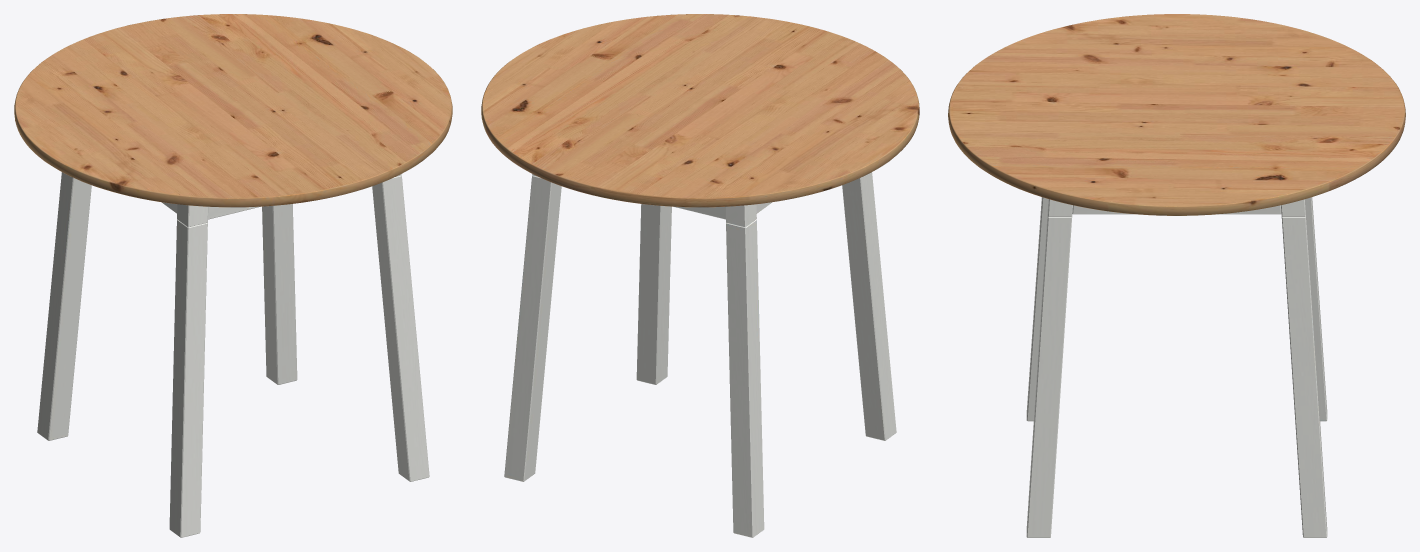
The model's file is pinntorp_sto_30637834.glb.
3 renders of one model, left to right at view 1: azimuth 30°, elevation 25°; view 2: azimuth 150°, elevation 25°; view 3: azimuth 270°, elevation 25°, orthographic. The views are drawn at different scales.
Visible parts, largest first — view 1: pinntorp_sto_30637834; view 2: pinntorp_sto_30637834; view 3: pinntorp_sto_30637834.
Part boxes in pixels (x1,y1,x2,y2): pinntorp_sto_30637834: (14,14,452,537); pinntorp_sto_30637834: (481,14,919,537); pinntorp_sto_30637834: (948,14,1405,537).
Bounding box in the file's own units: 0.8499 × 0.7501 × 0.85.
1 material, 1 textured.
